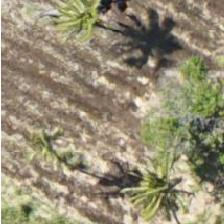coconut_tree: (107, 130, 197, 220), (3, 94, 93, 184), (37, 0, 127, 61)
